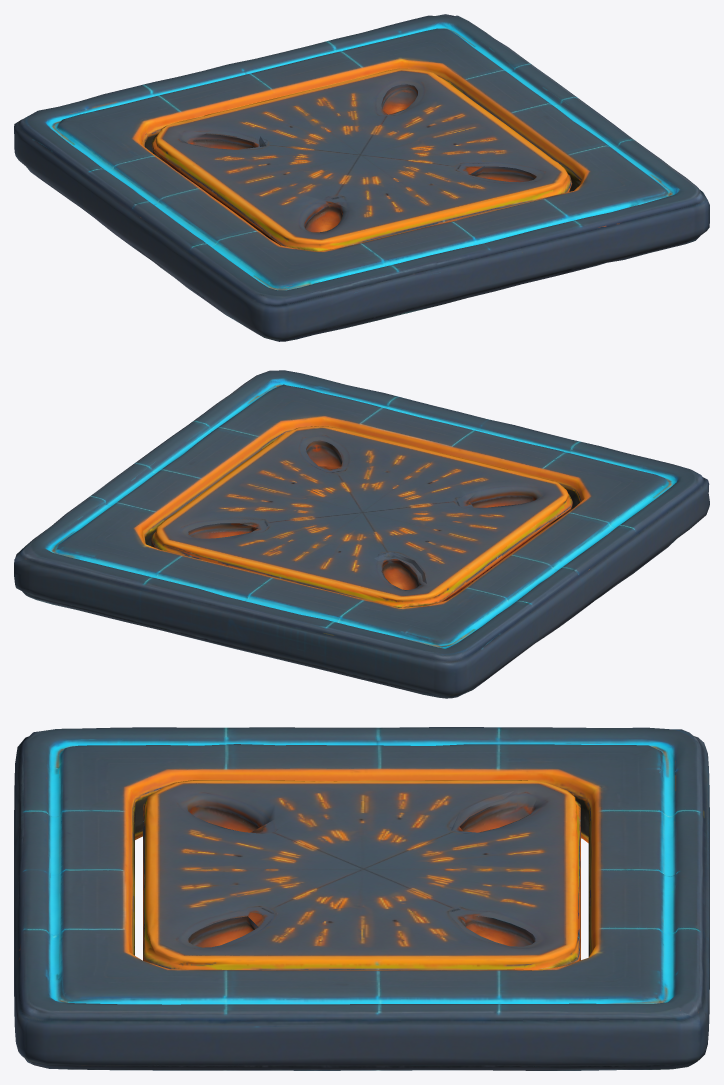
File: Neon_Spike_Floor_Tile_0926200247_texture.fbx
3 renders of one model, top to bottom at view 1: azimuth 30°, elevation 25°; view 2: azimuth 150°, elevation 25°; view 3: azimuth 270°, elevation 25°, orthographic. The views are drawn at different scales.
Visible parts, largest first — view 1: Mesh0; view 2: Mesh0; view 3: Mesh0.
Boxes of the visible parts, left/top/right/bottom form: Mesh0: left=14, top=14, right=709, bottom=341; Mesh0: left=14, top=370, right=709, bottom=698; Mesh0: left=14, top=727, right=709, bottom=1070.
Bounding box in the file's own units: 191 × 18.04 × 191.
1 material, 1 textured.
